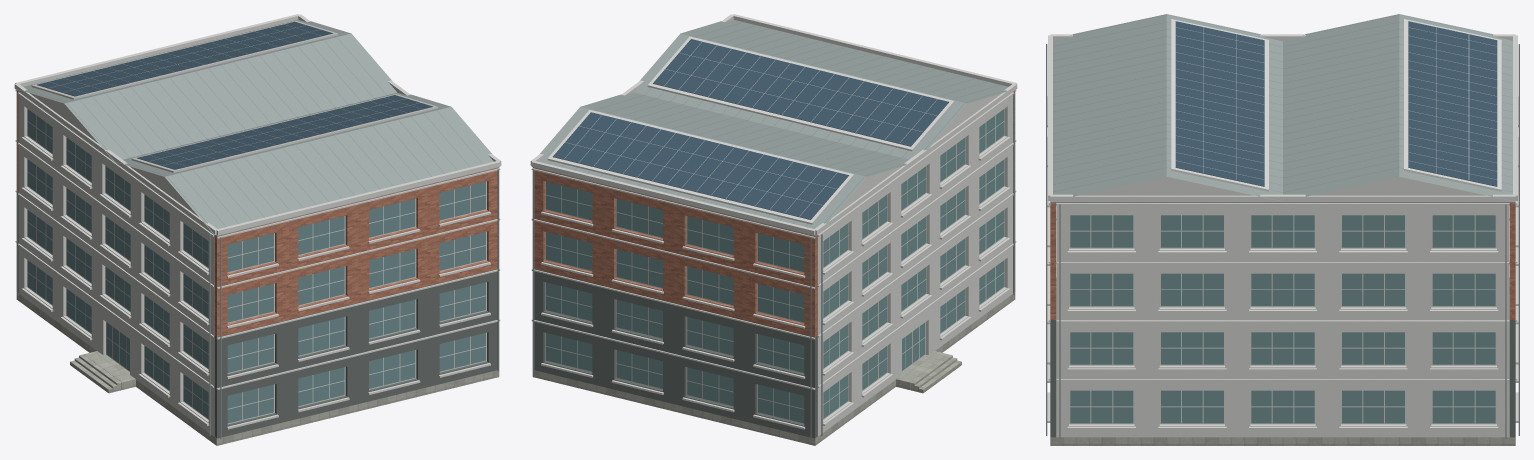
3 renders of one model, left to right at view 1: azimuth 30°, elevation 25°; view 2: azimuth 150°, elevation 25°; view 3: azimuth 270°, elevation 25°, orthographic. The views are drawn at different scales.
Visible parts, largest first — view 1: northwest__roof, northwest__white, northwest__glass, northwest__dark, northwest__brick, northwest__pv, northwest__frame, northwest__steel, northwest__stone, northwest__pvgrid, northwest__stair-west, northwest__threshold-west; view 2: northwest__white, northwest__glass, northwest__pv, northwest__roof, northwest__dark, northwest__brick, northwest__frame, northwest__steel, northwest__stone, northwest__pvgrid, northwest__stair-west, northwest__threshold-west; view 3: northwest__white, northwest__roof, northwest__glass, northwest__pv, northwest__frame, northwest__steel, northwest__stone, northwest__pvgrid, northwest__dark, northwest__brick.
Boxes of the visible parts, bbox=[...] form: northwest__roof: bbox=[14, 19, 499, 236]; northwest__white: bbox=[14, 14, 501, 436]; northwest__glass: bbox=[27, 109, 485, 423]; northwest__dark: bbox=[16, 192, 497, 438]; northwest__brick: bbox=[16, 90, 498, 337]; northwest__pv: bbox=[37, 21, 432, 169]; northwest__frame: bbox=[27, 109, 486, 424]; northwest__steel: bbox=[17, 22, 499, 438]; northwest__stone: bbox=[16, 292, 499, 445]; northwest__pvgrid: bbox=[48, 24, 421, 166]; northwest__stair-west: bbox=[70, 354, 121, 393]; northwest__threshold-west: bbox=[83, 351, 135, 389]; northwest__white: bbox=[530, 14, 1017, 436]; northwest__glass: bbox=[546, 109, 1004, 423]; northwest__pv: bbox=[552, 39, 948, 219]; northwest__roof: bbox=[532, 19, 1017, 236]; northwest__dark: bbox=[534, 192, 1015, 438]; northwest__brick: bbox=[533, 90, 1015, 337]; northwest__frame: bbox=[545, 109, 1004, 424]; northwest__steel: bbox=[532, 22, 1014, 438]; northwest__stone: bbox=[532, 292, 1015, 445]; northwest__pvgrid: bbox=[564, 41, 937, 216]; northwest__stair-west: bbox=[910, 354, 961, 393]; northwest__threshold-west: bbox=[896, 351, 948, 389]; northwest__white: bbox=[1047, 19, 1518, 437]; northwest__roof: bbox=[1050, 14, 1515, 202]; northwest__glass: bbox=[1070, 215, 1495, 423]; northwest__pv: bbox=[1175, 21, 1497, 186]; northwest__frame: bbox=[1069, 215, 1496, 424]; northwest__steel: bbox=[1046, 14, 1519, 438]; northwest__stone: bbox=[1050, 277, 1515, 445]; northwest__pvgrid: bbox=[1176, 27, 1496, 179]; northwest__dark: bbox=[1050, 320, 1515, 437]; northwest__brick: bbox=[1050, 203, 1515, 319].
Size of the model in its own units: 24.38 by 17.43 by 27.51.
Materials: 10 (5 with a texture image).
